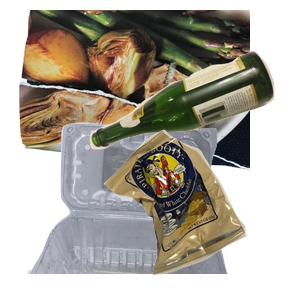glass: (87, 48, 300, 190)
paper: (16, 10, 256, 172)
plastic: (25, 120, 245, 300)
trash: (101, 127, 300, 300)
